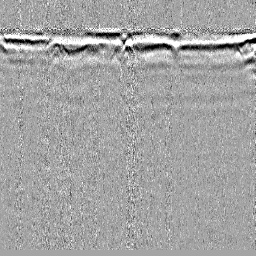cavity: (121, 38, 135, 54)
